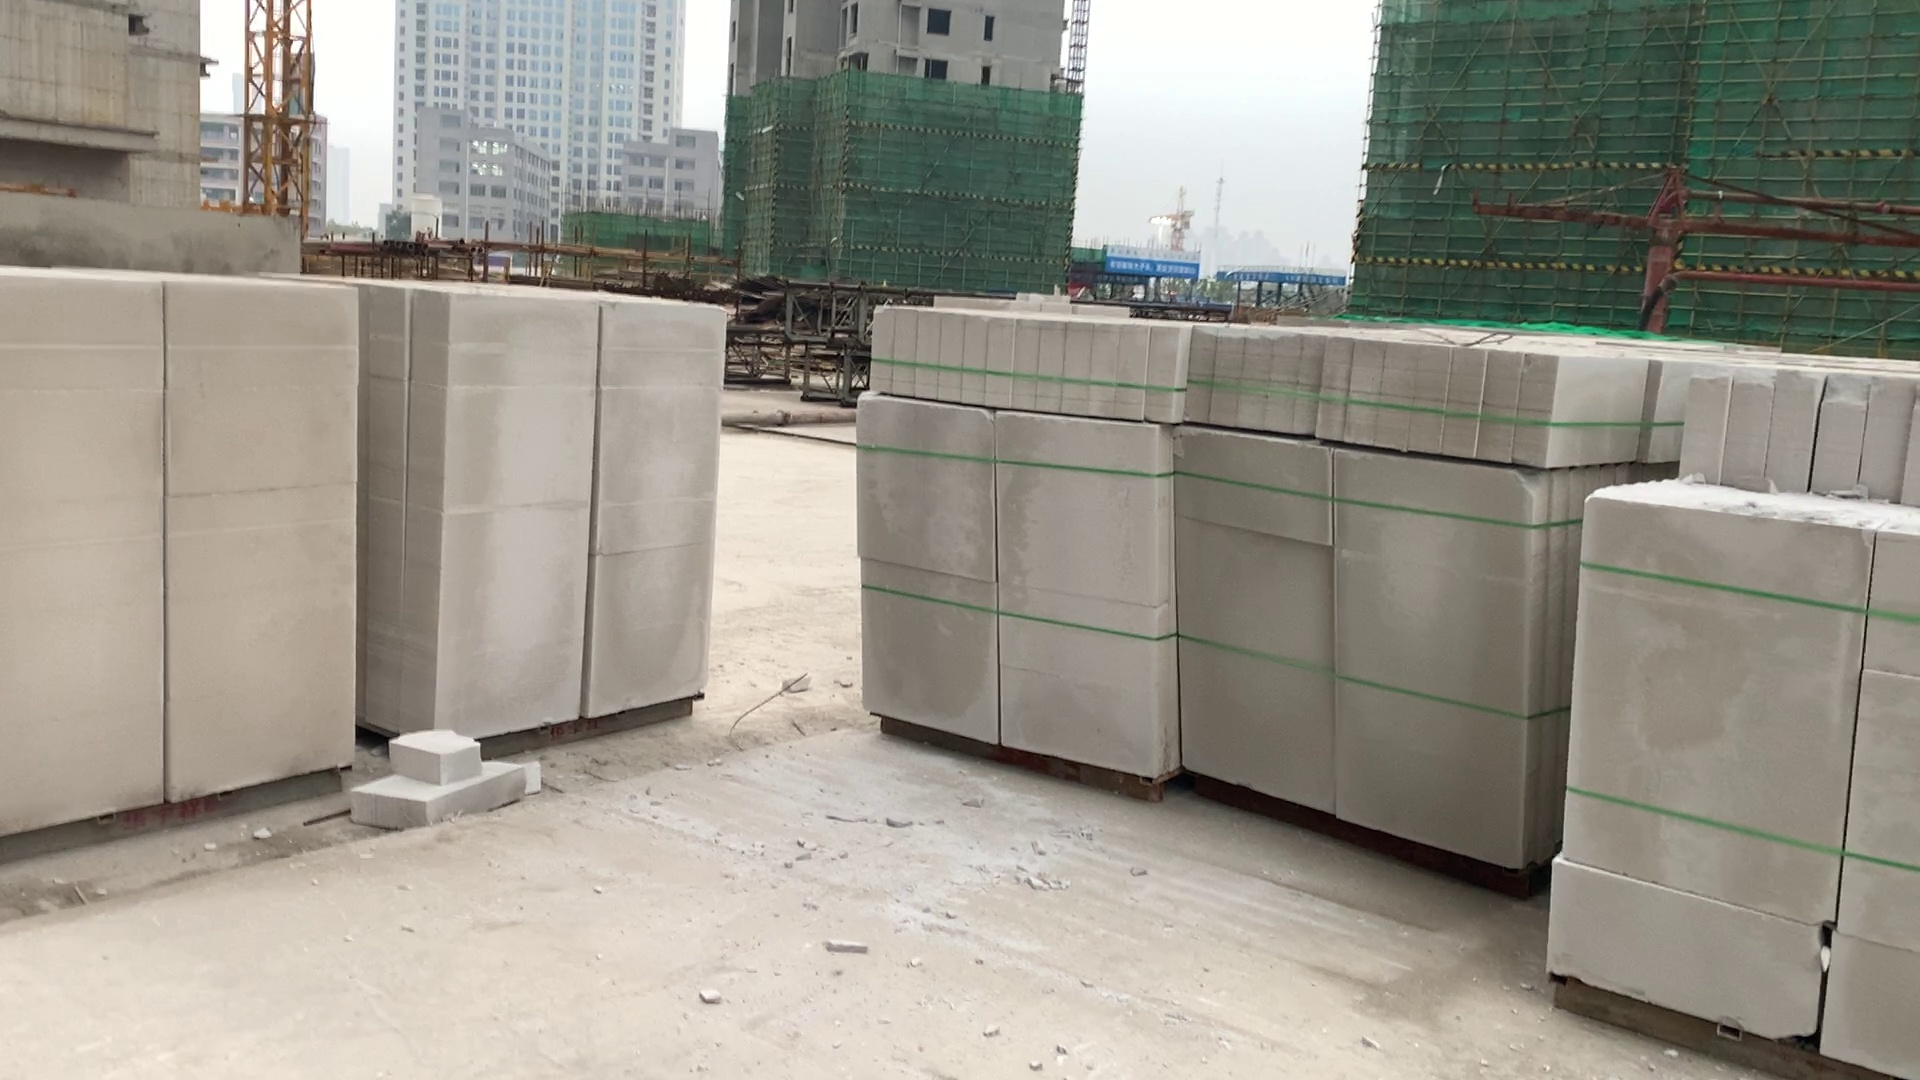brickwork: (1565, 369, 1917, 1080), (7, 277, 360, 831), (1183, 326, 1535, 870), (367, 281, 717, 723), (861, 306, 1170, 793)
